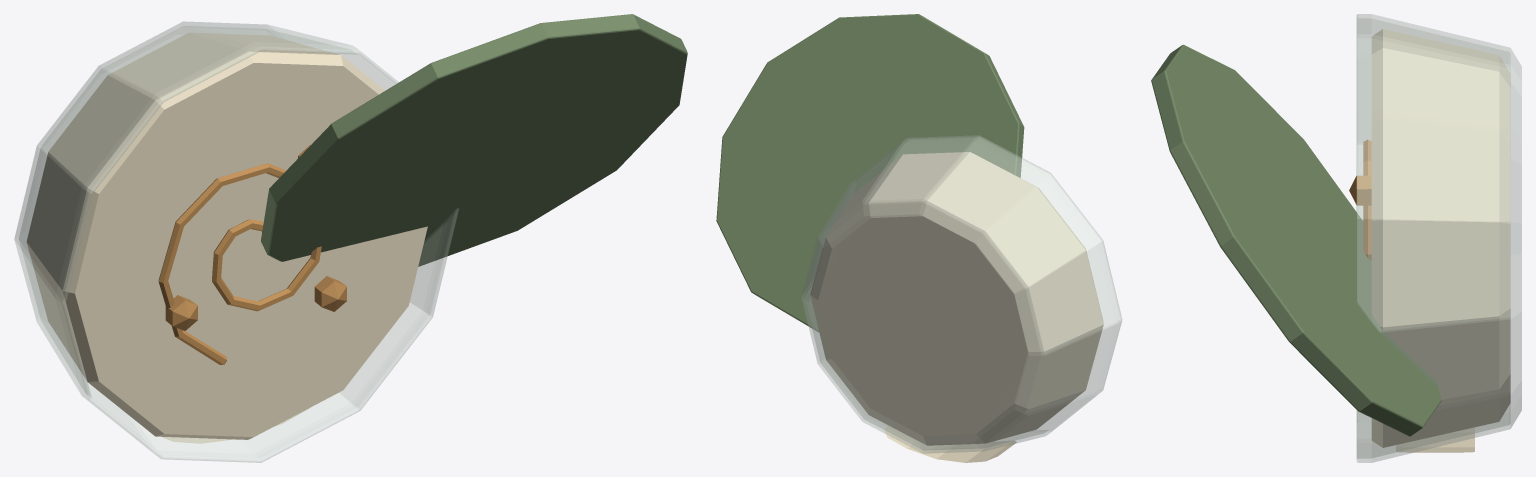
File: hummus.glb
3 views of the same model, side by side, from view 1: azimuth 30°, elevation 25°; view 2: azimuth 150°, elevation 25°; view 3: azimuth 270°, elevation 25° (orthographic). The views are drawn at different scales.
Parts seen in each view (by area): view 1: hummus; view 2: hummus; view 3: hummus.
Boxes of the visible parts, x1,y1,x2,y2 form: hummus: (14,14,687,462); hummus: (716,14,1122,462); hummus: (1151,14,1521,462).
Bounding box in the file's own units: 0.176 × 0.1349 × 0.0987.
